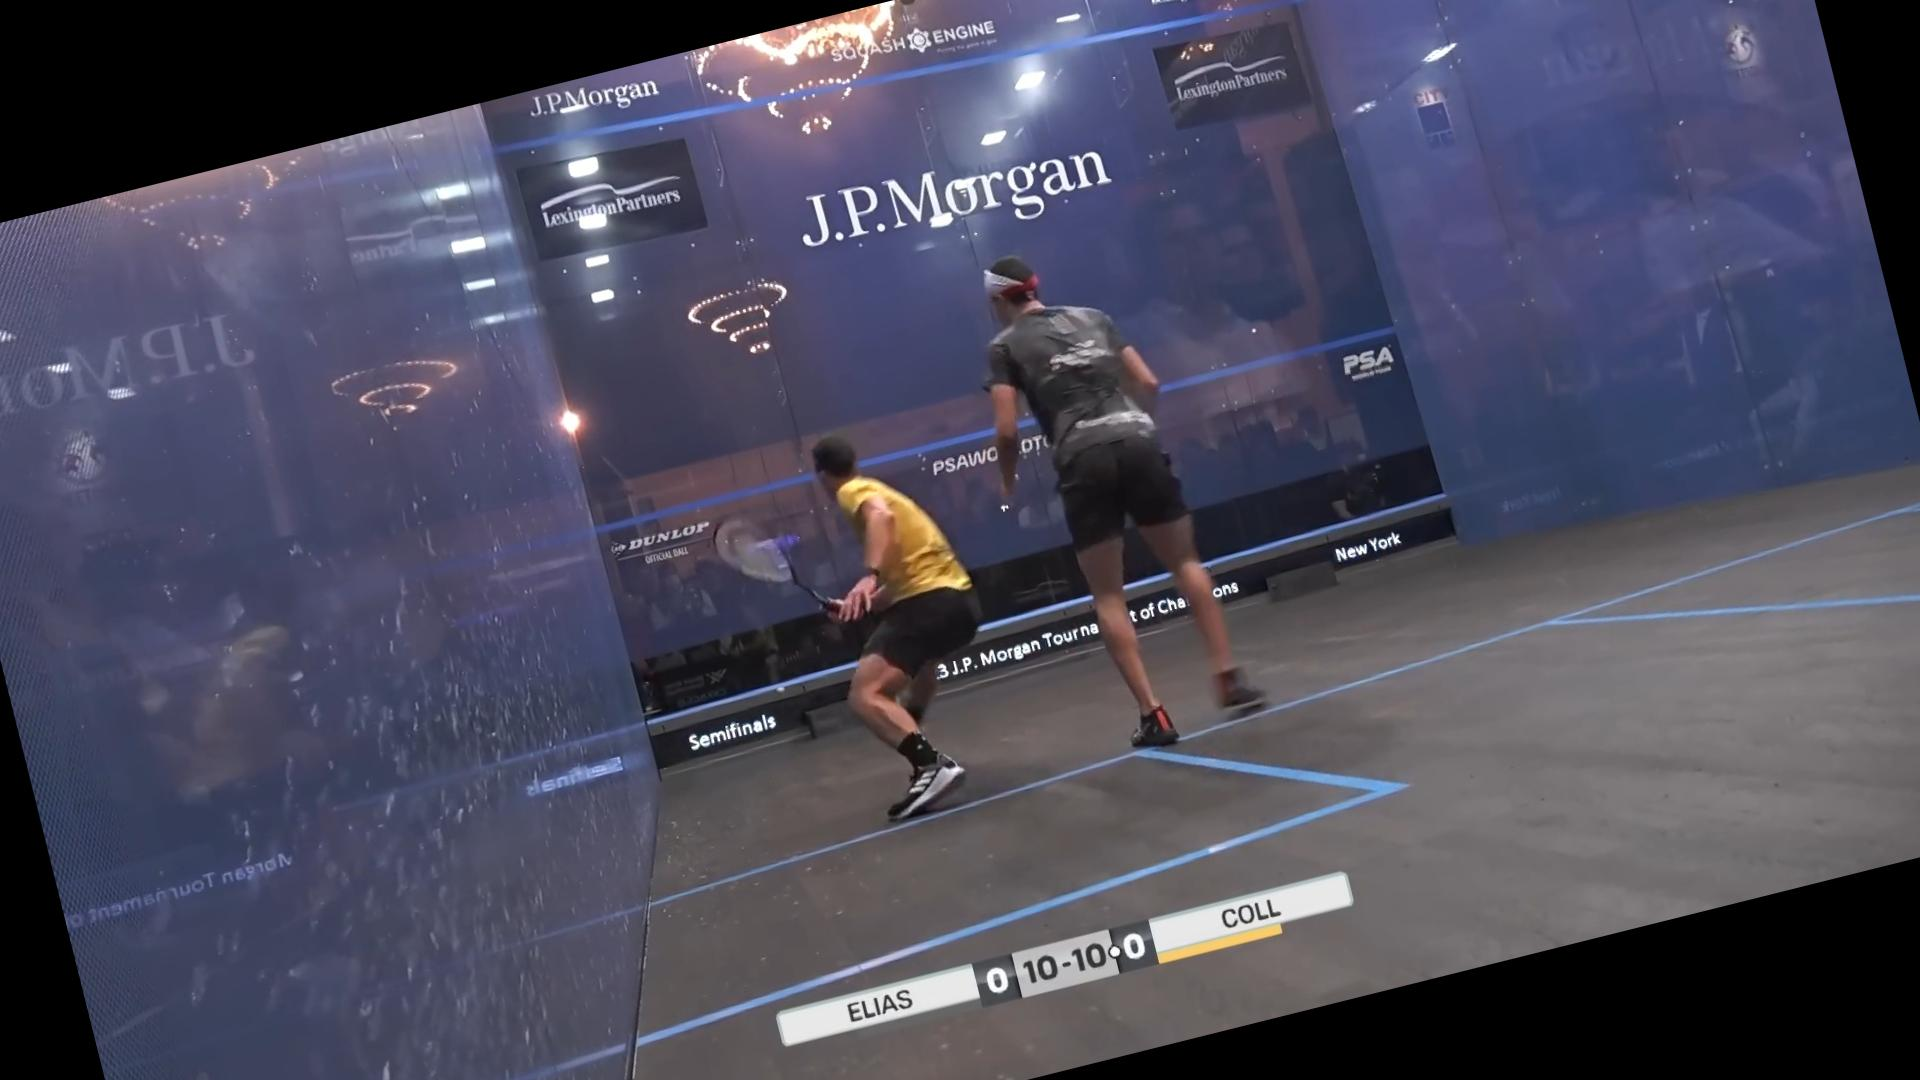Racket: (688, 469, 832, 632)
